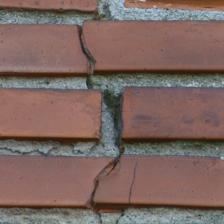Crack: (87, 86, 134, 223), (75, 28, 103, 96)
